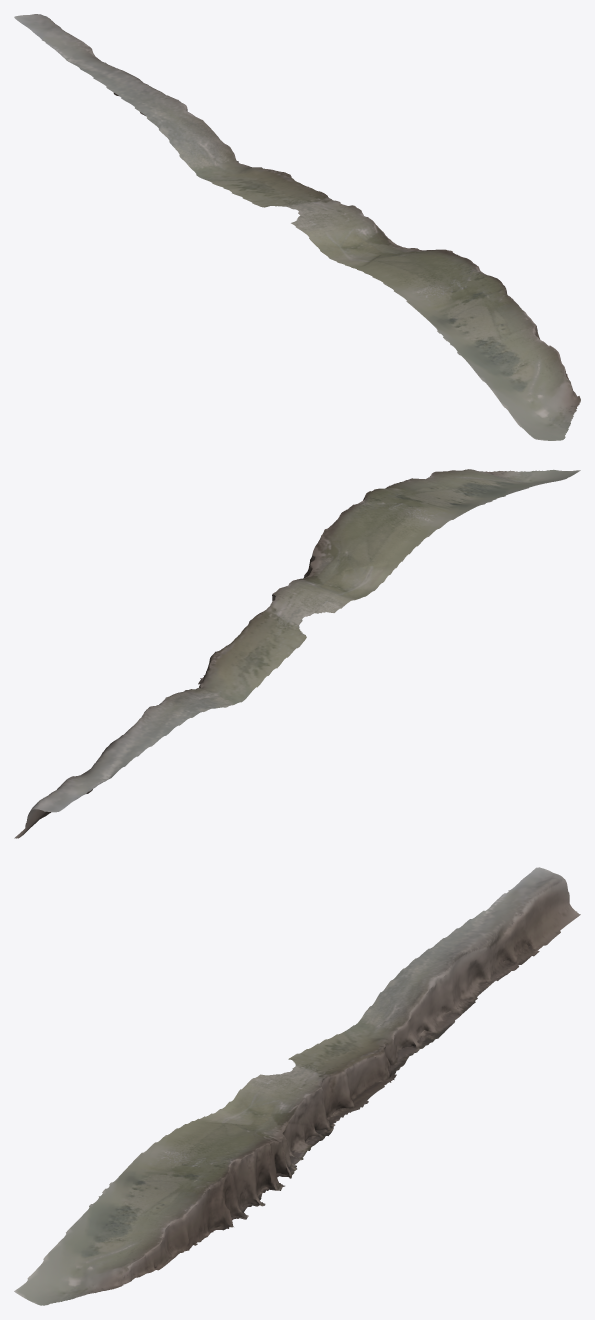
3 renders of one model, top to bottom at view 1: azimuth 30°, elevation 25°; view 2: azimuth 150°, elevation 25°; view 3: azimuth 330°, elevation 25°, orthographic.
Visible parts, largest first — view 1: Object_2; view 2: Object_2; view 3: Object_2.
Part boxes in pixels (left/top/right/bottom): Object_2: left=14, top=14, right=580, bottom=440; Object_2: left=14, top=469, right=580, bottom=838; Object_2: left=14, top=867, right=580, bottom=1305.
Bounding box in the file's own units: 1.94 × 0.9983 × 16.8.
1 material, 1 textured.
